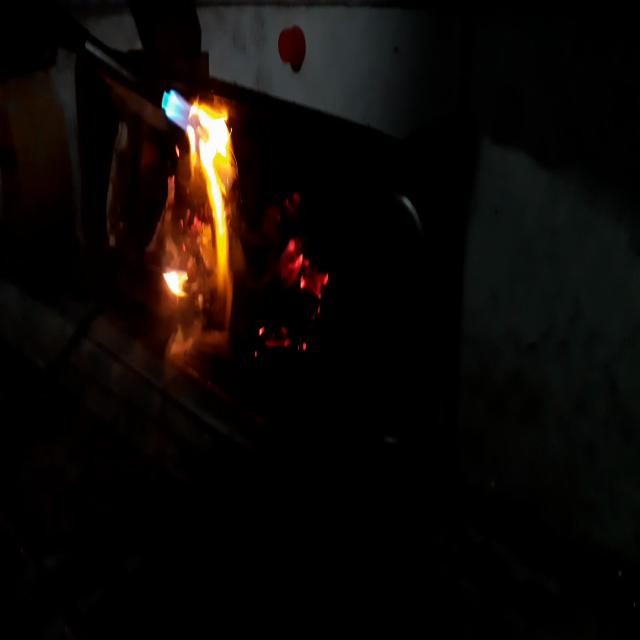Fire: (152, 72, 245, 348), (256, 185, 338, 387)
